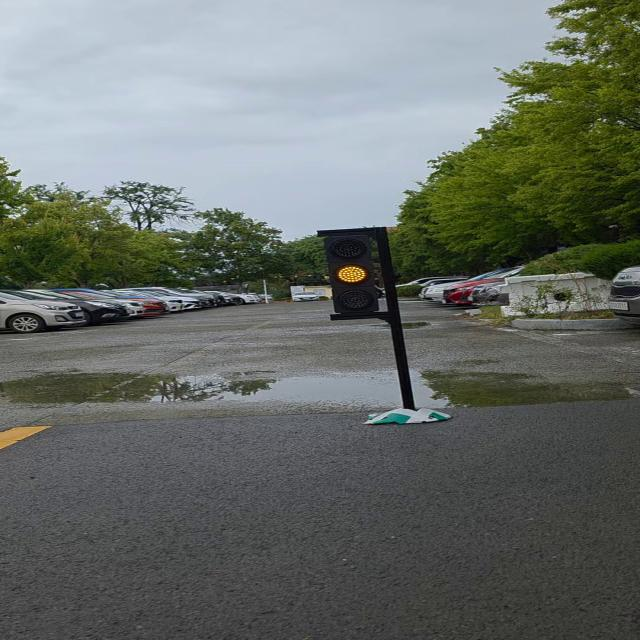yellow: (313, 223, 394, 329)
